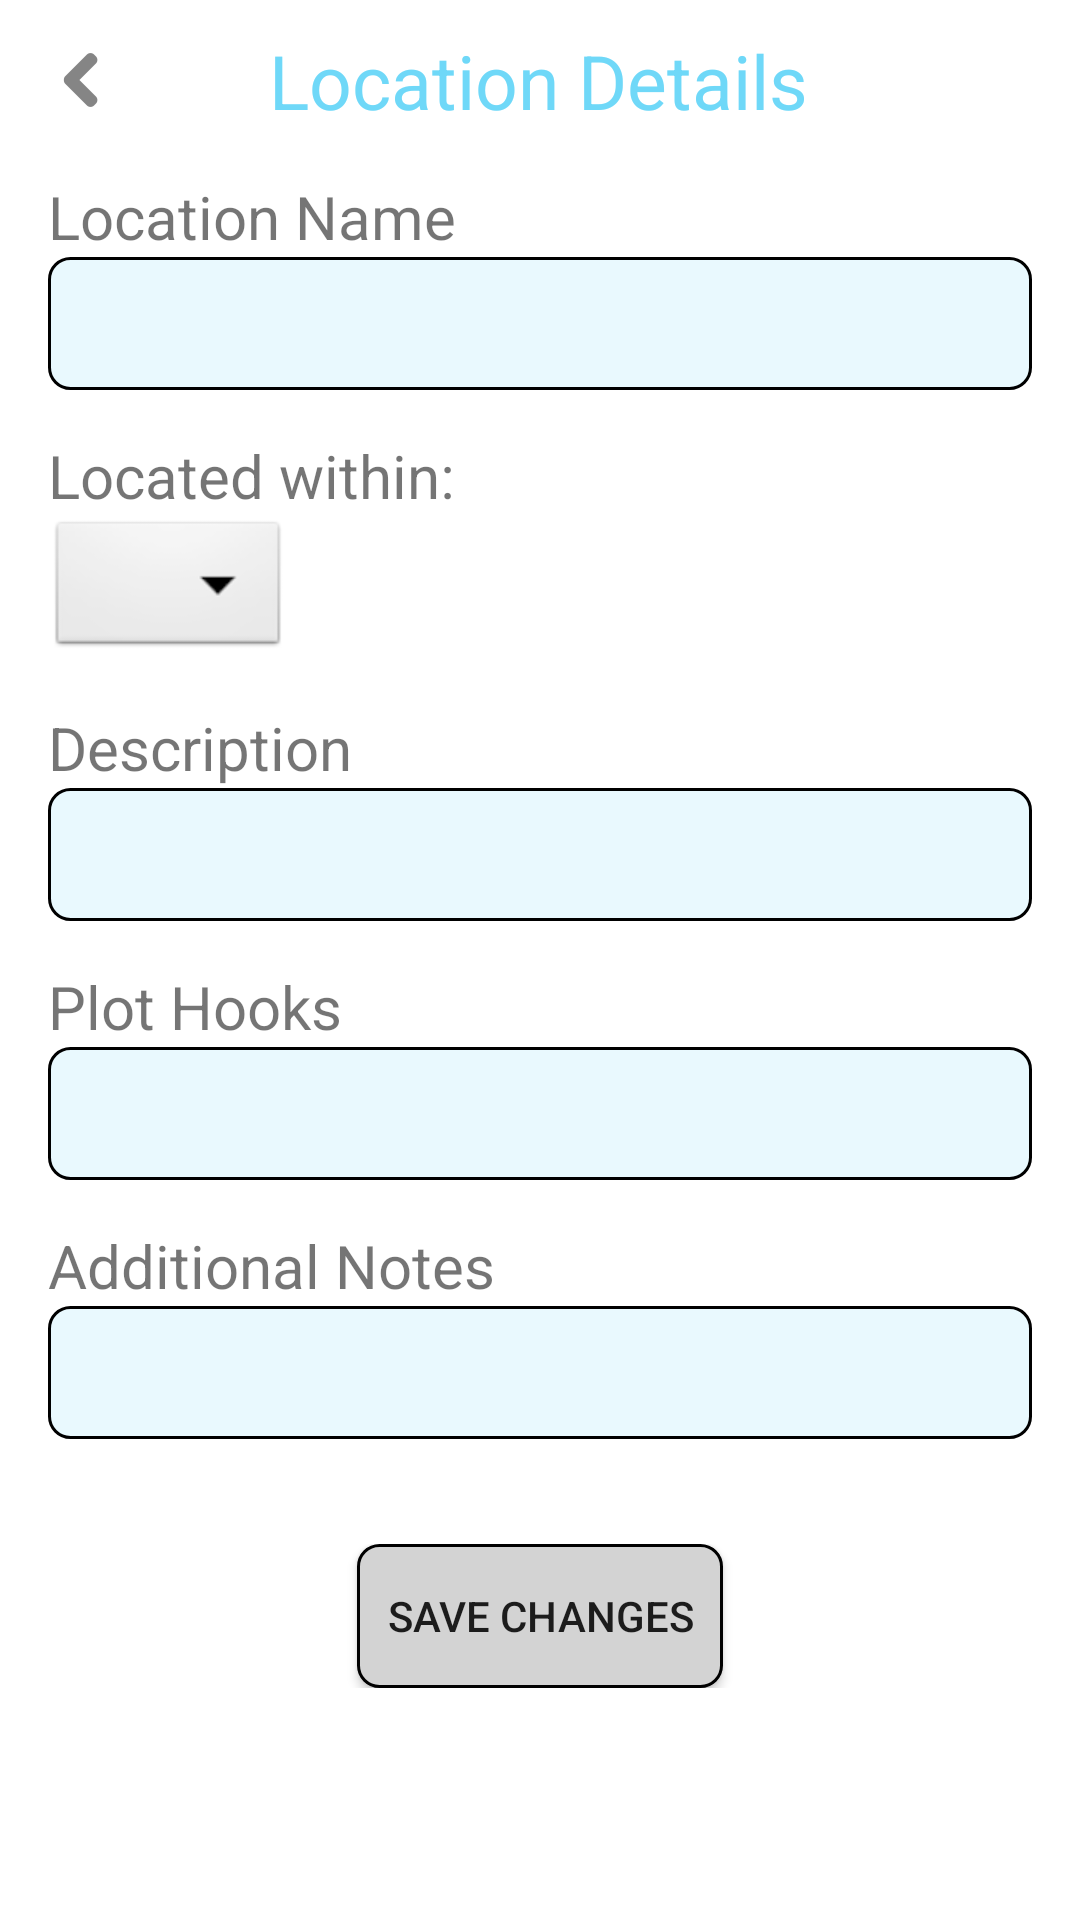

Named icons in this screenshot (1080x1920) and their bounding boxes, (left=x1, top=y1, right=x2, bottom=y2):
backarrow: (left=64, top=53, right=98, bottom=107)
